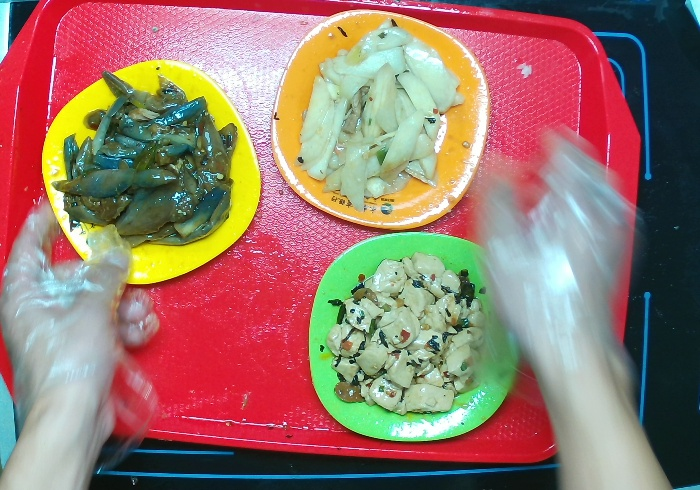YKMZ-Huang_Se_Fang_Die: (37, 51, 270, 291)
YKMZ-Ju_Se_Fang_Die: (260, 2, 504, 235)
YKMZ-Lv_Se_Fang_Die: (305, 220, 537, 450)
